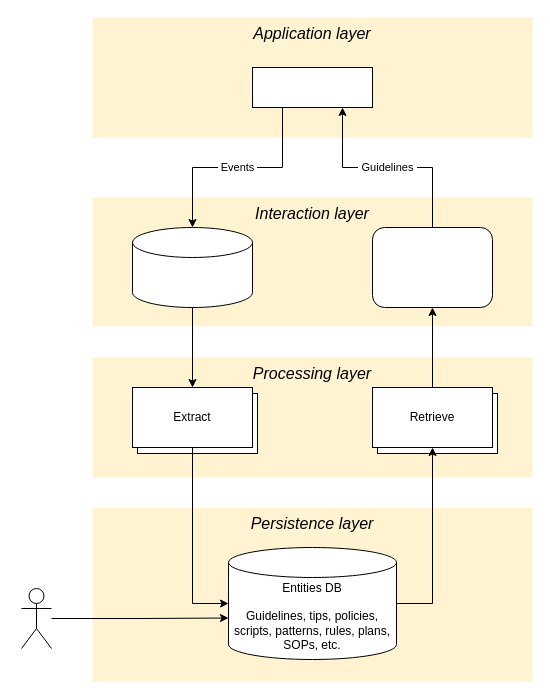
Some shapes in this 550 by 698 pixel diagram are drawn without their labels. Here are the shapes that lost their labels. From the top down, the centre of each, then its label:
At pixel 312 87: "Agent".
At pixel 192 267: "Logs (Agent trajectories)".
At pixel 432 267: "Entities MCP server".
At pixel 36 618: "Human".
